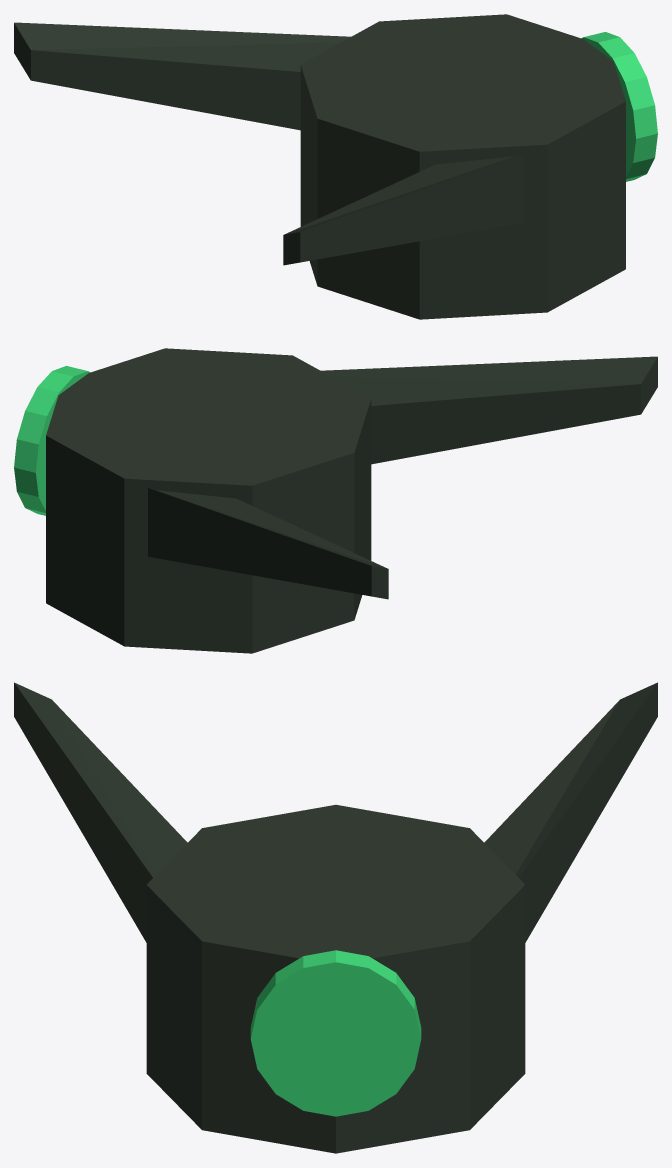
Rendered from archer_turret.obj.
3 views of the same model, one above another, from view 1: azimuth 30°, elevation 25°; view 2: azimuth 150°, elevation 25°; view 3: azimuth 270°, elevation 25° (orthographic). The views are drawn at different scales.
Visible parts, largest first — view 1: ArcherTurret; view 2: ArcherTurret; view 3: ArcherTurret.
Part boxes in pixels (x1,y1,x2,y2): ArcherTurret: (14,14,657,319); ArcherTurret: (14,348,657,653); ArcherTurret: (14,682,657,1153).
Size of the model in its own units: 0.635 by 0.26 by 0.68.
